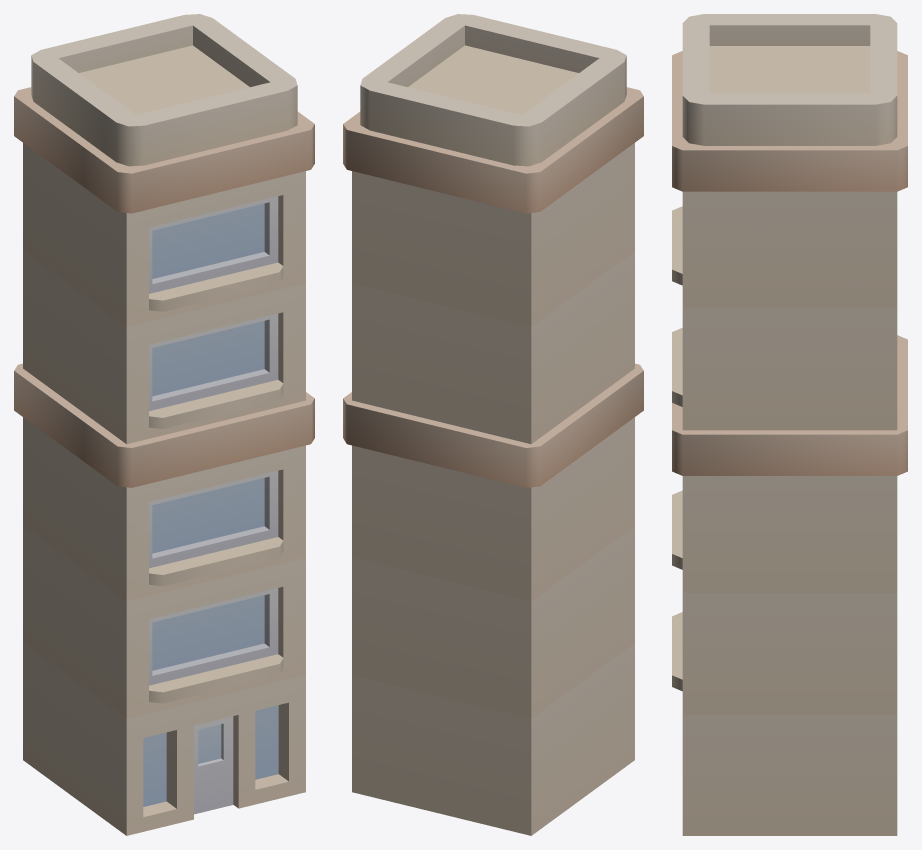
The model's file is building-sample-tower-d.glb.
3 renders of one model, left to right at view 1: azimuth 30°, elevation 25°; view 2: azimuth 150°, elevation 25°; view 3: azimuth 270°, elevation 25°, orthographic. The views are drawn at different scales.
Parts seen in each view (by area): view 1: building-sample-tower-d; view 2: building-sample-tower-d; view 3: building-sample-tower-d.
Boxes of the visible parts, x1=… form: building-sample-tower-d: x1=14, y1=14, x2=314, y2=835; building-sample-tower-d: x1=343, y1=14, x2=643, y2=835; building-sample-tower-d: x1=672, y1=14, x2=907, y2=835.
Size of the model in its own units: 1.1 by 3.76 by 1.1.
